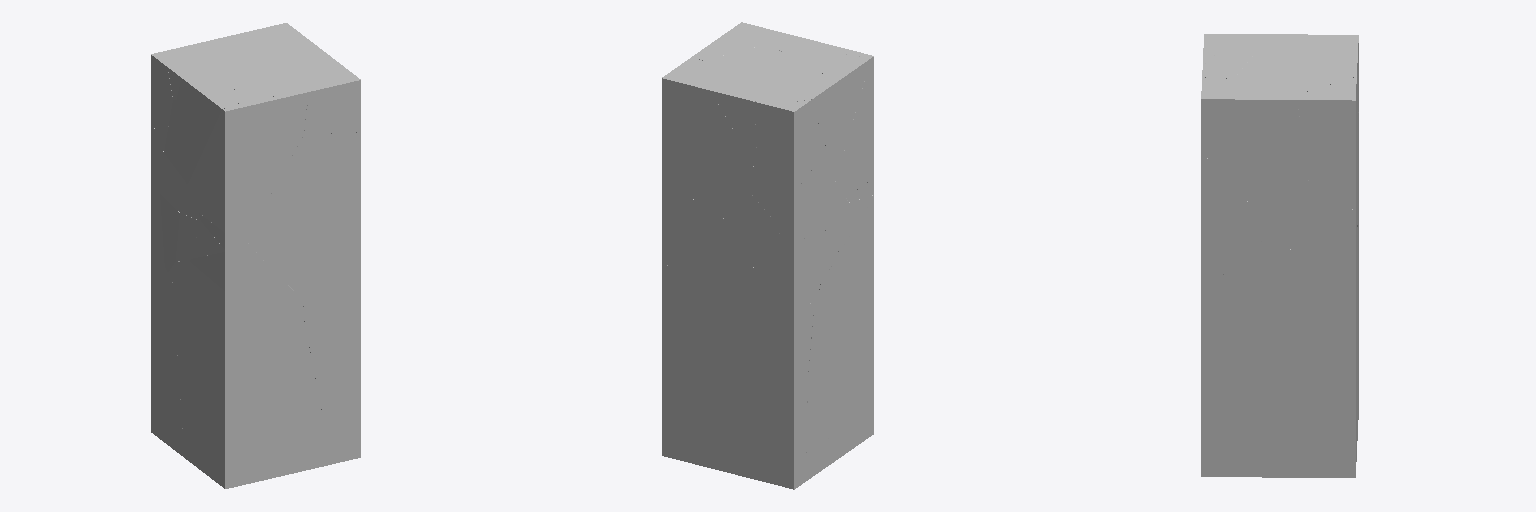
Rendered from FractureCube_01.obj.
3 renders of one model, left to right at view 1: azimuth 30°, elevation 25°; view 2: azimuth 150°, elevation 25°; view 3: azimuth 270°, elevation 25°, orthographic.
Visible parts, largest first — view 1: Fractured shard; view 2: Fractured shard; view 3: Fractured shard.
Part boxes in pixels (bbox=[...]): Fractured shard: bbox=[151, 23, 360, 488]; Fractured shard: bbox=[662, 22, 873, 489]; Fractured shard: bbox=[1201, 34, 1358, 477].
Bounding box in the file's own units: 3.06 × 8.06 × 3.05.